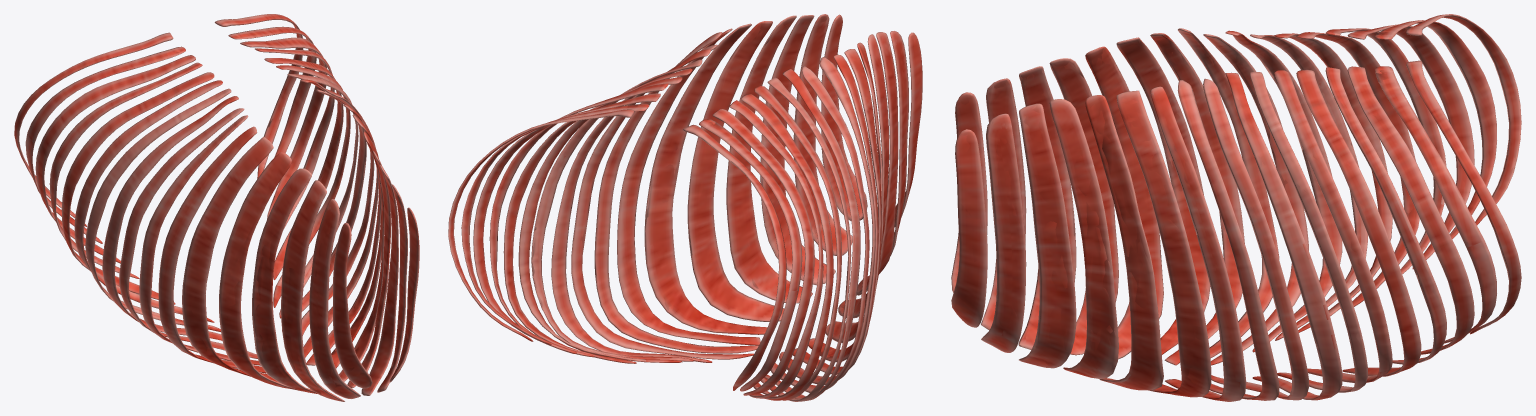
Rendered from Intercostales Interni.fbx.
3 views of the same model, side by side, from view 1: azimuth 30°, elevation 25°; view 2: azimuth 150°, elevation 25°; view 3: azimuth 270°, elevation 25° (orthographic). The views are drawn at different scales.
Visible parts, largest first — view 1: Intercostales Interni, Intercostales Interni low; view 2: Intercostales Interni, Intercostales Interni low; view 3: Intercostales Interni, Intercostales Interni low.
Boxes of the visible parts, left/top/right/bottom form: Intercostales Interni: left=14, top=14, right=419, bottom=401; Intercostales Interni low: left=18, top=17, right=418, bottom=400; Intercostales Interni: left=448, top=14, right=922, bottom=401; Intercostales Interni low: left=451, top=14, right=921, bottom=400; Intercostales Interni: left=951, top=14, right=1521, bottom=401; Intercostales Interni low: left=952, top=15, right=1519, bottom=401.
Bounding box in the file's own units: 56.72 × 51.3 × 81.19.
1 material, 1 textured.
